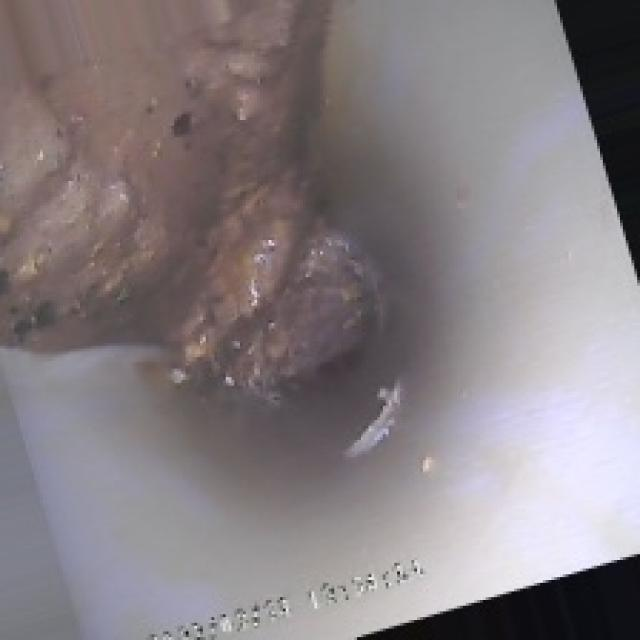sluge accumulation: (31, 14, 372, 397)
